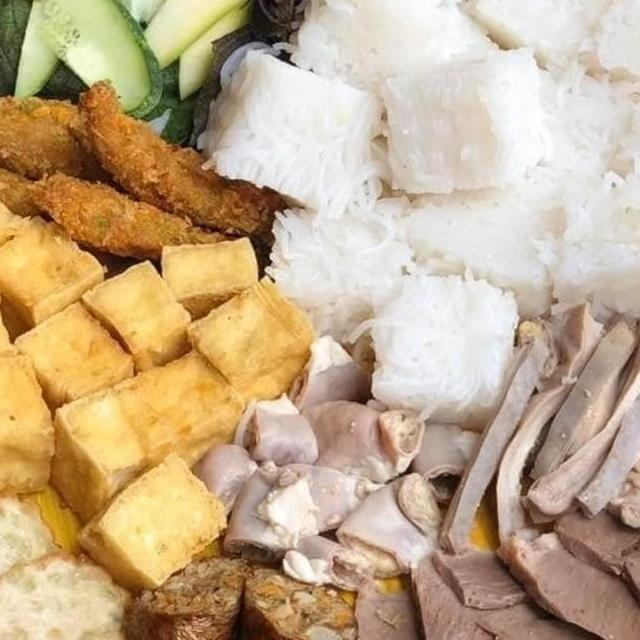bun: (195, 0, 640, 437)
bun dau: (0, 0, 640, 640)
cha com: (0, 77, 278, 268)
dau hu: (0, 160, 333, 597)
doi sun: (45, 525, 384, 640)
thit heo: (288, 493, 640, 640)
